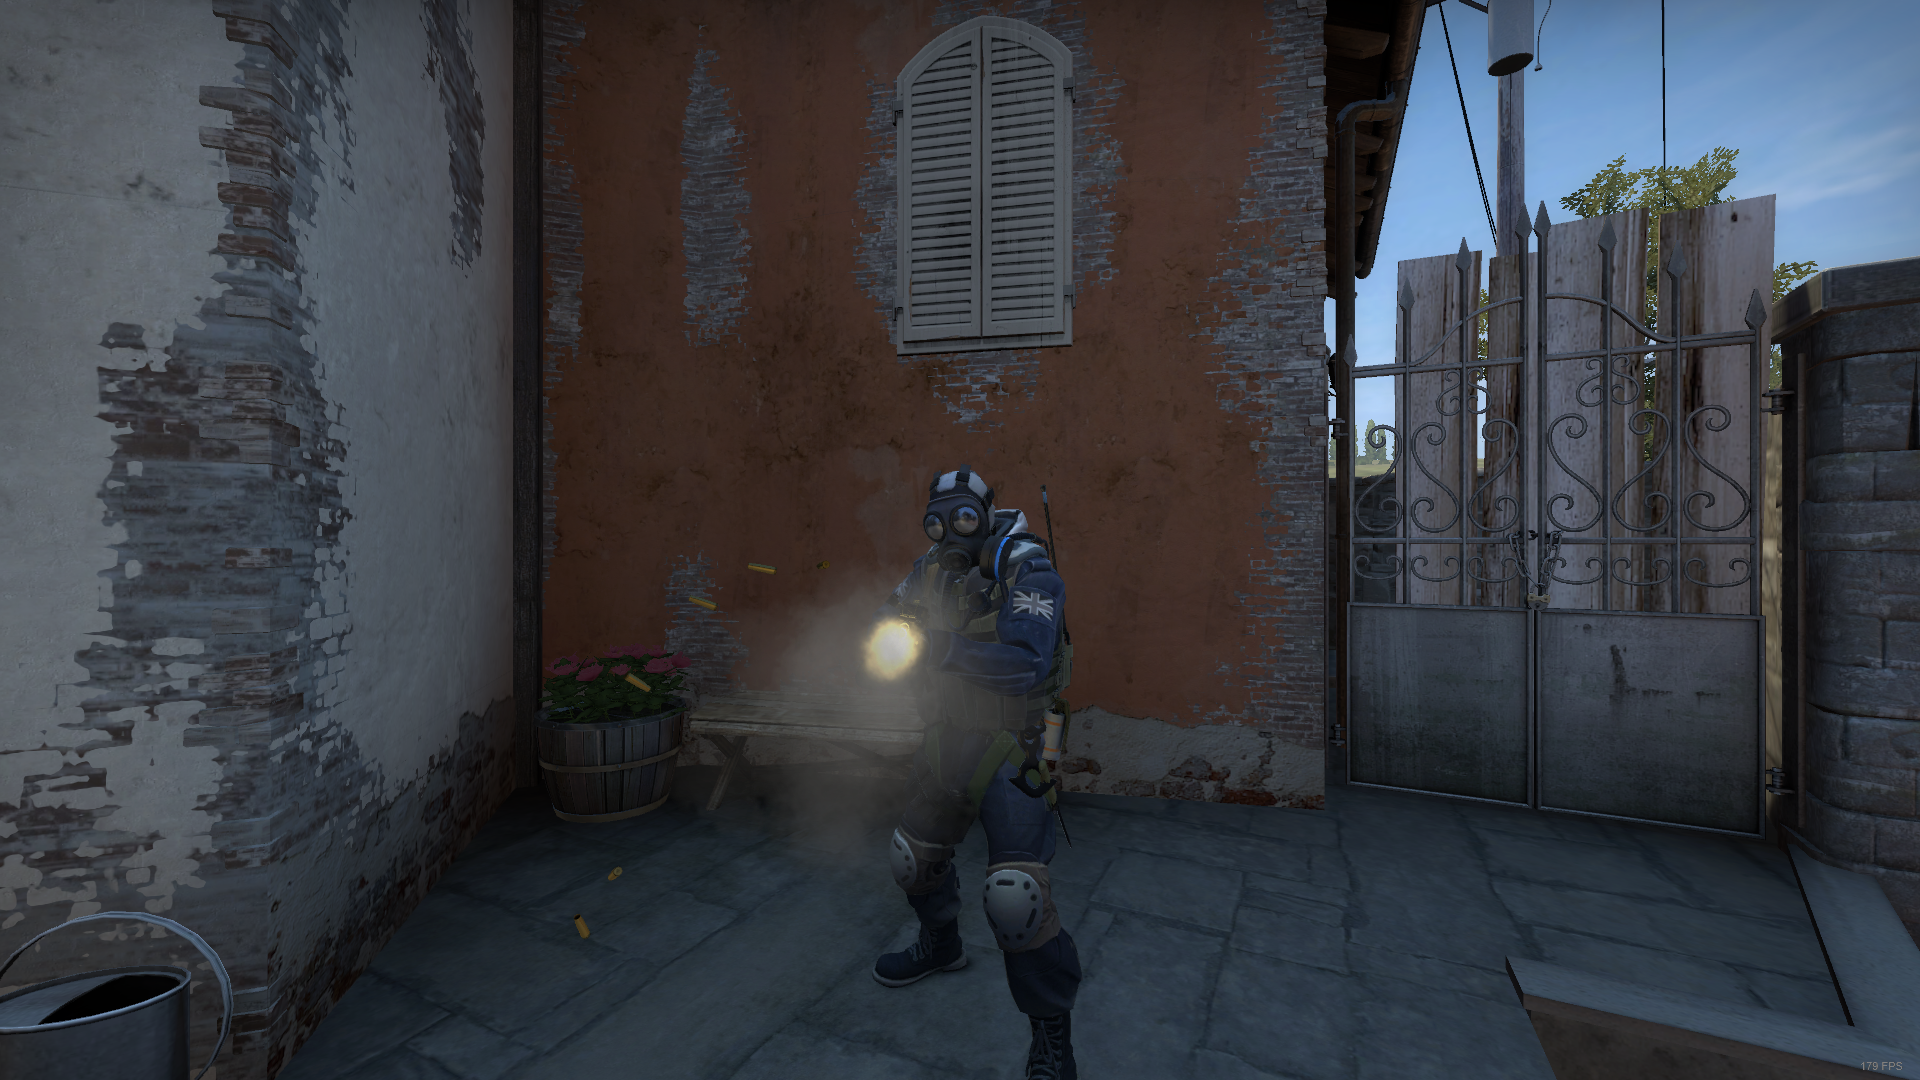ct: (853, 467, 1100, 1079)
